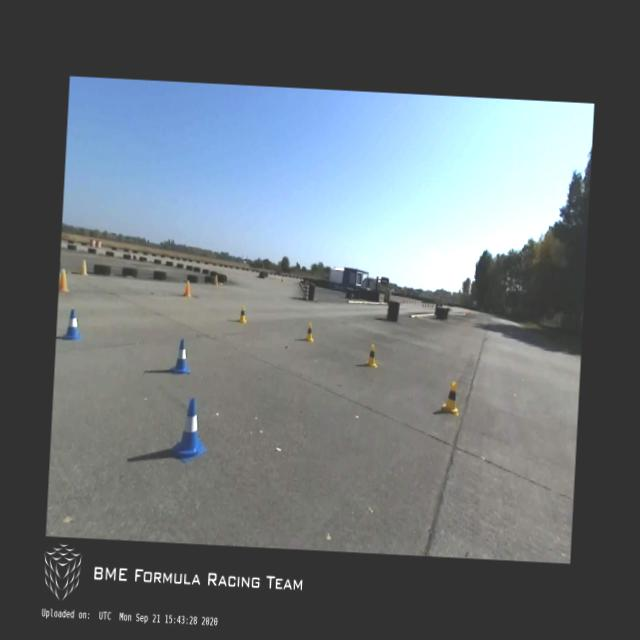blue_cone: (172, 398, 210, 466), (170, 338, 192, 375), (61, 309, 84, 341)
yellow_cone: (440, 381, 461, 416), (365, 344, 378, 368), (304, 322, 315, 343), (237, 306, 247, 324)
